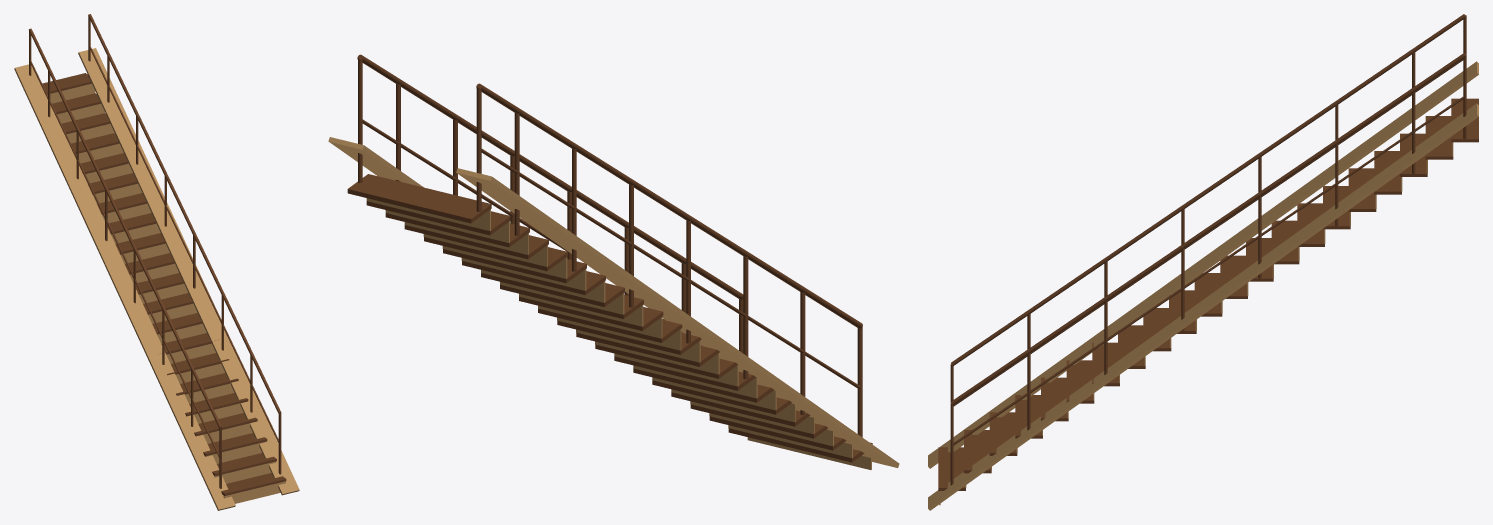
The model's file is circulation.stair.timber_rise_4200.glb.
The picture shows the model from 3 angles, left to right: view 1: azimuth 30°, elevation 25°; view 2: azimuth 150°, elevation 25°; view 3: azimuth 270°, elevation 25°; orthographic projection. The views are drawn at different scales.
Visible parts, largest first — view 1: flight__softwood, flight__hardwood, balustrade__hardwood; view 2: flight__softwood, flight__hardwood, balustrade__hardwood; view 3: flight__softwood, flight__hardwood, balustrade__hardwood.
Part boxes in pixels (x1,y1,x2,y2): flight__softwood: [14, 48, 299, 510]; flight__hardwood: [42, 73, 286, 495]; balustrade__hardwood: [29, 14, 281, 488]; flight__softwood: [328, 137, 899, 469]; flight__hardwood: [347, 174, 872, 462]; balustrade__hardwood: [357, 54, 862, 450]; flight__softwood: [928, 61, 1478, 510]; flight__hardwood: [938, 98, 1478, 490]; balustrade__hardwood: [950, 14, 1466, 485].
Bounding box in the file's own units: 1.23 × 4.85 × 5.37.
